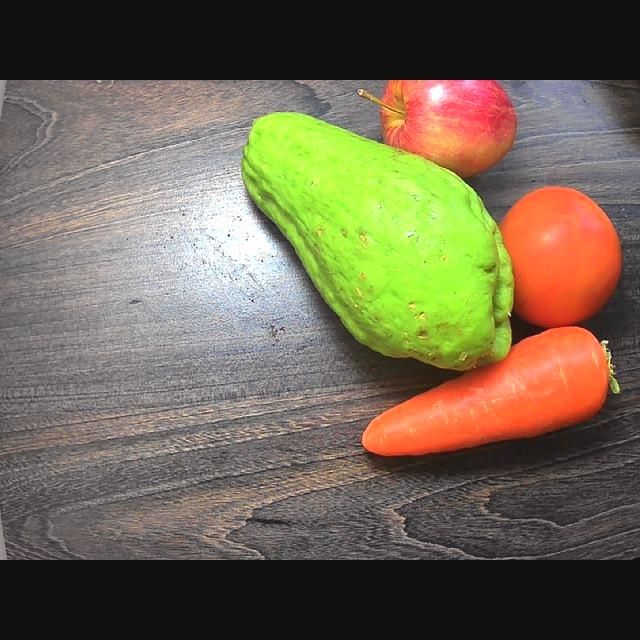chayote: (241, 113, 513, 370)
manzana: (359, 80, 515, 177)
tomate: (500, 187, 620, 327)
zanahoria: (362, 326, 618, 455)
